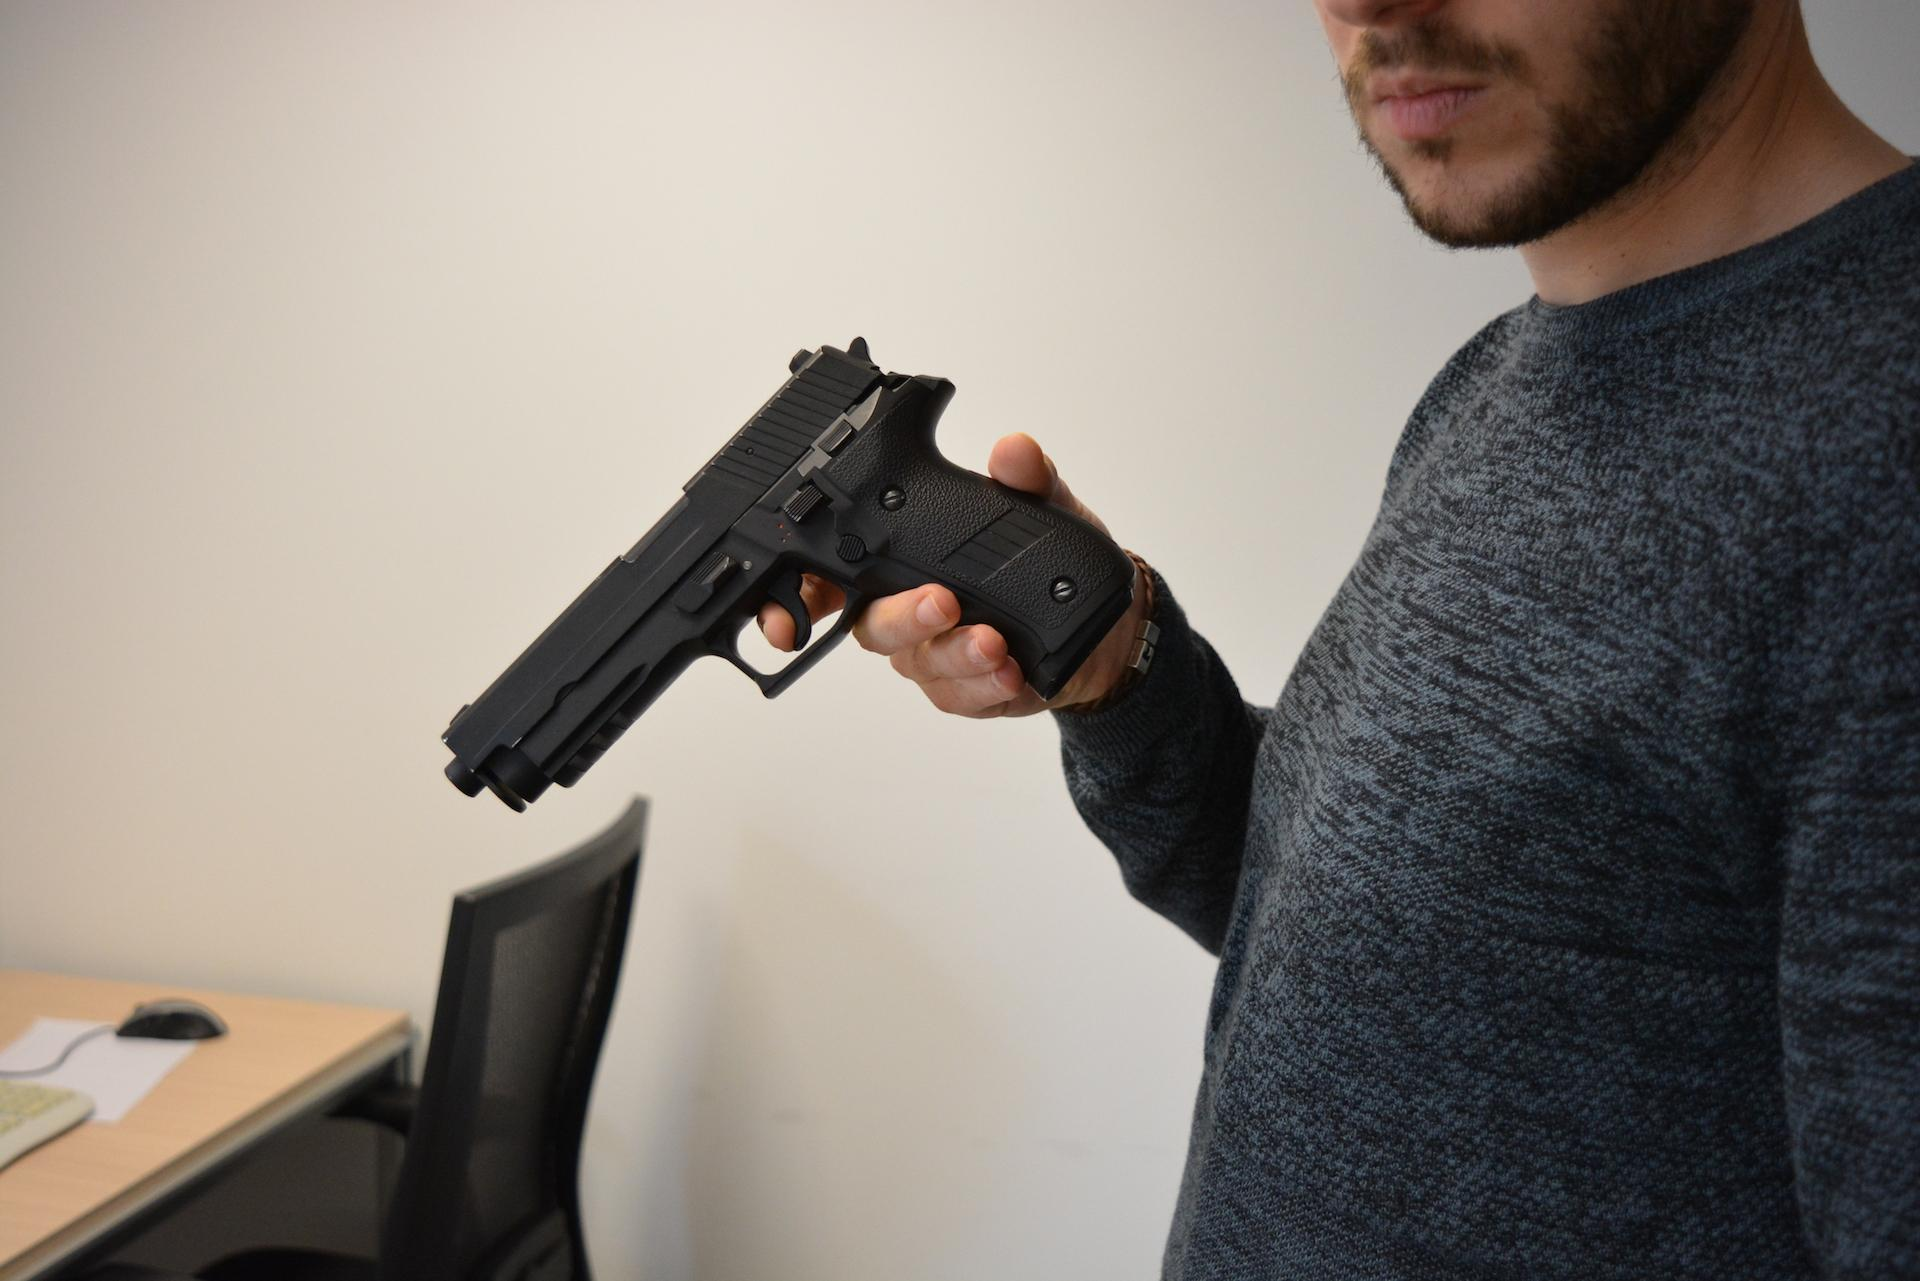criminal: (440, 0, 1920, 1281)
weapon: (439, 336, 1137, 815)
